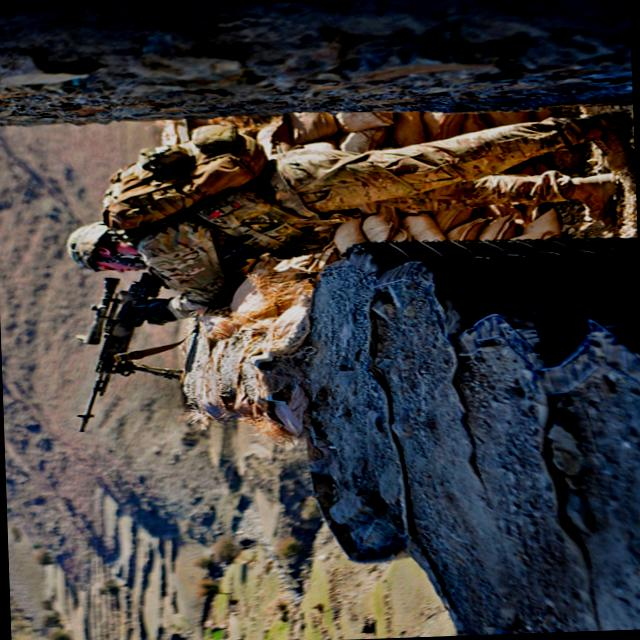long weapon: (49, 272, 192, 443)
